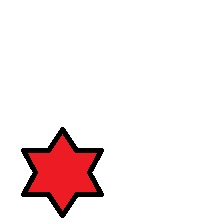star: (20, 127, 105, 218)
